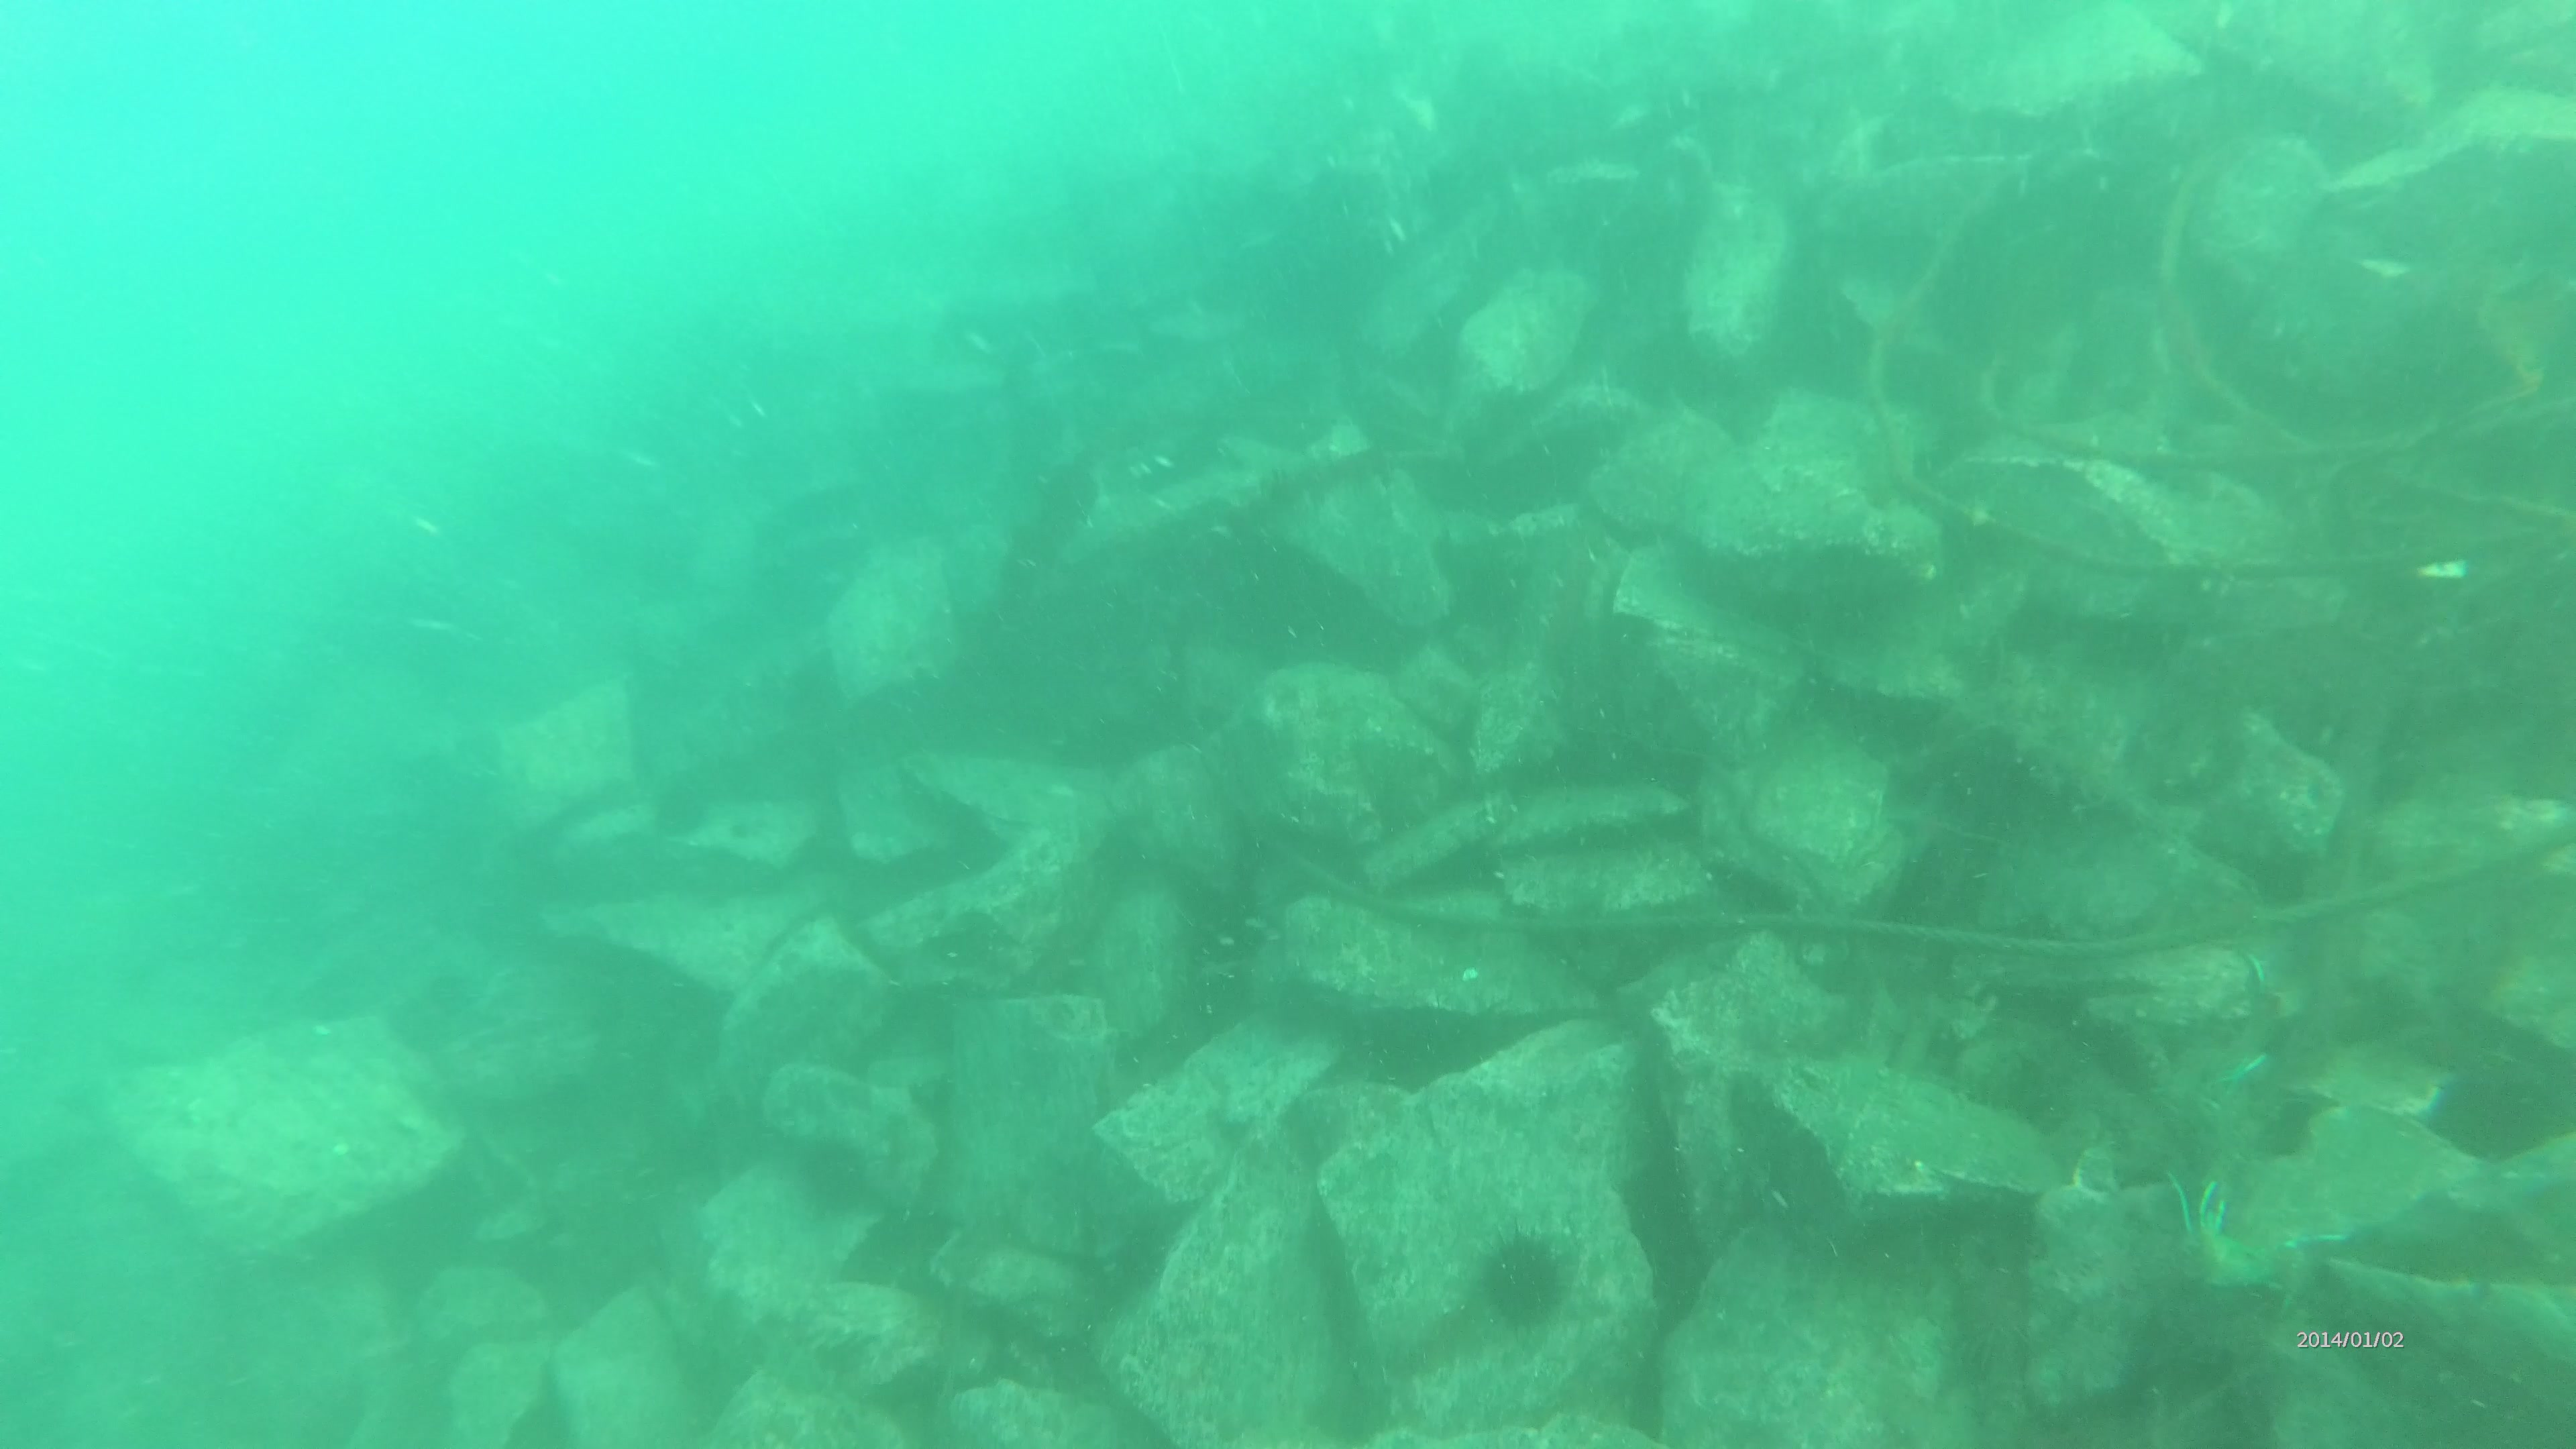echinus: (1476, 1219, 1575, 1327)
